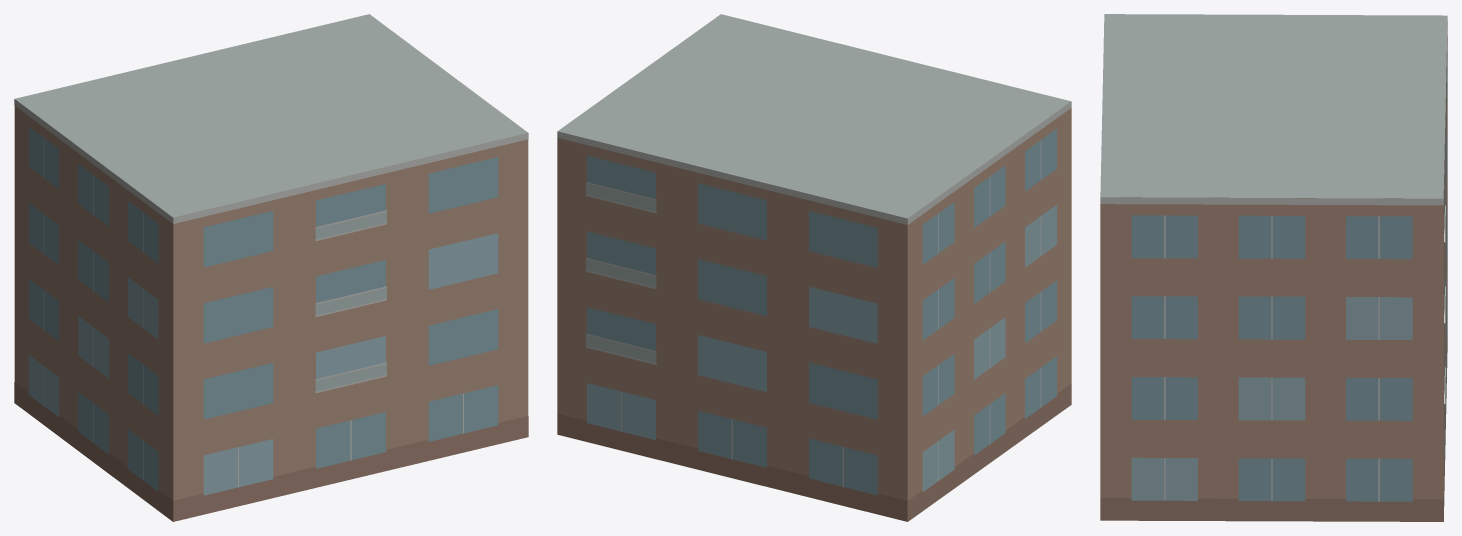
The model's file is survey-upis-32823807.glb.
3 renders of one model, left to right at view 1: azimuth 30°, elevation 25°; view 2: azimuth 150°, elevation 25°; view 3: azimuth 270°, elevation 25°, orthographic. The views are drawn at different scales.
Parts seen in each view (by area): view 1: survey-upis-32823807.tmp; view 2: survey-upis-32823807.tmp; view 3: survey-upis-32823807.tmp.
Boxes of the visible parts, x1=… form: survey-upis-32823807.tmp: x1=14, y1=14, x2=528, y2=521; survey-upis-32823807.tmp: x1=557, y1=14, x2=1071, y2=521; survey-upis-32823807.tmp: x1=1100, y1=14, x2=1447, y2=521.
Size of the model in its own units: 14.22 by 11.6 by 11.3.
